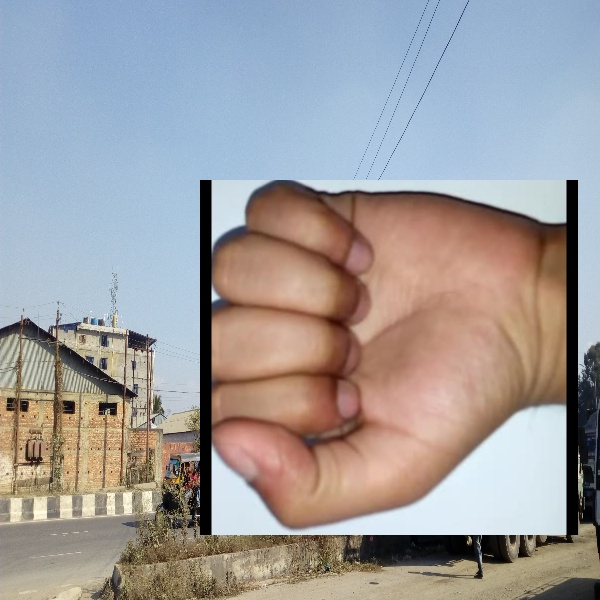A: (200, 180, 578, 535)
